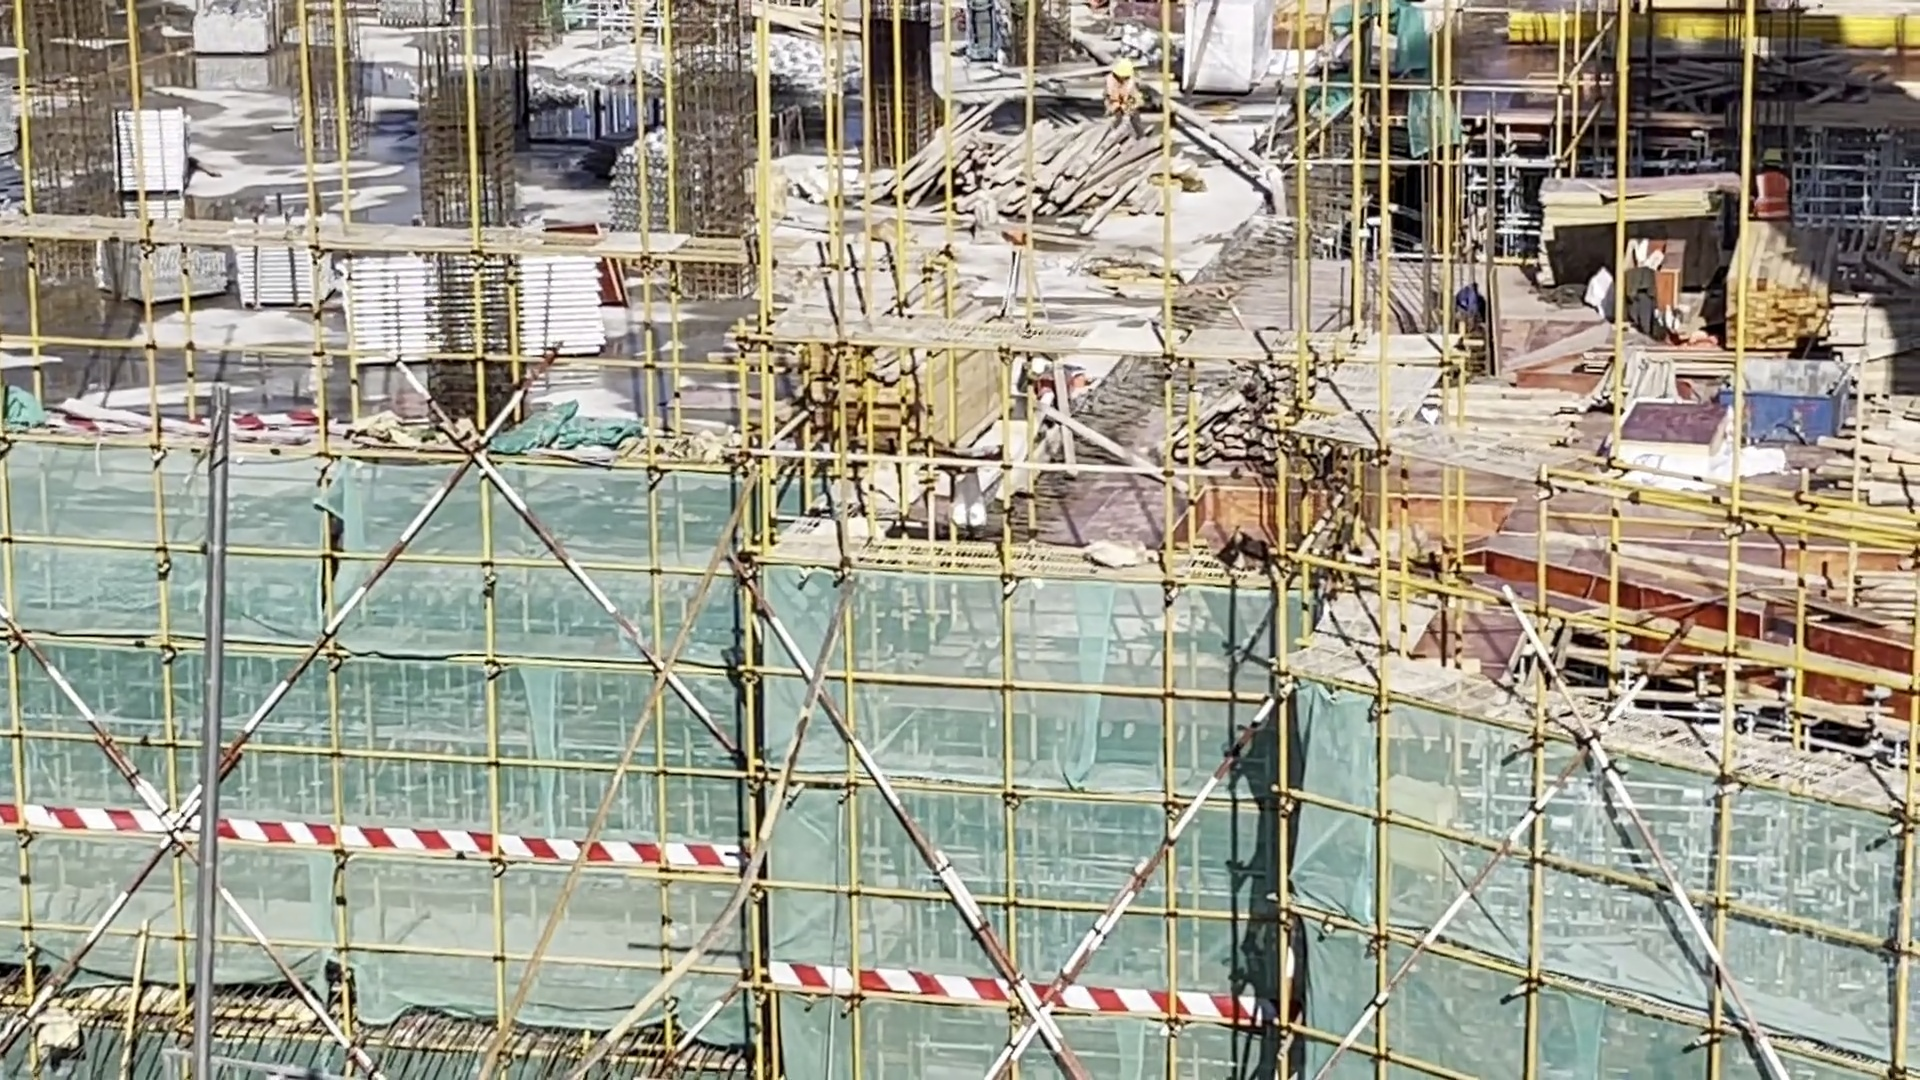helmet: (1026, 350, 1048, 380), (1101, 54, 1130, 73)
hopper: (1718, 344, 1855, 461)
person: (1013, 353, 1090, 417), (1101, 54, 1159, 137)
scaffold: (332, 255, 617, 363), (223, 209, 358, 320)
vest: (1102, 77, 1141, 110)
wood: (892, 112, 1106, 259), (786, 339, 1011, 460), (1707, 215, 1834, 374)
